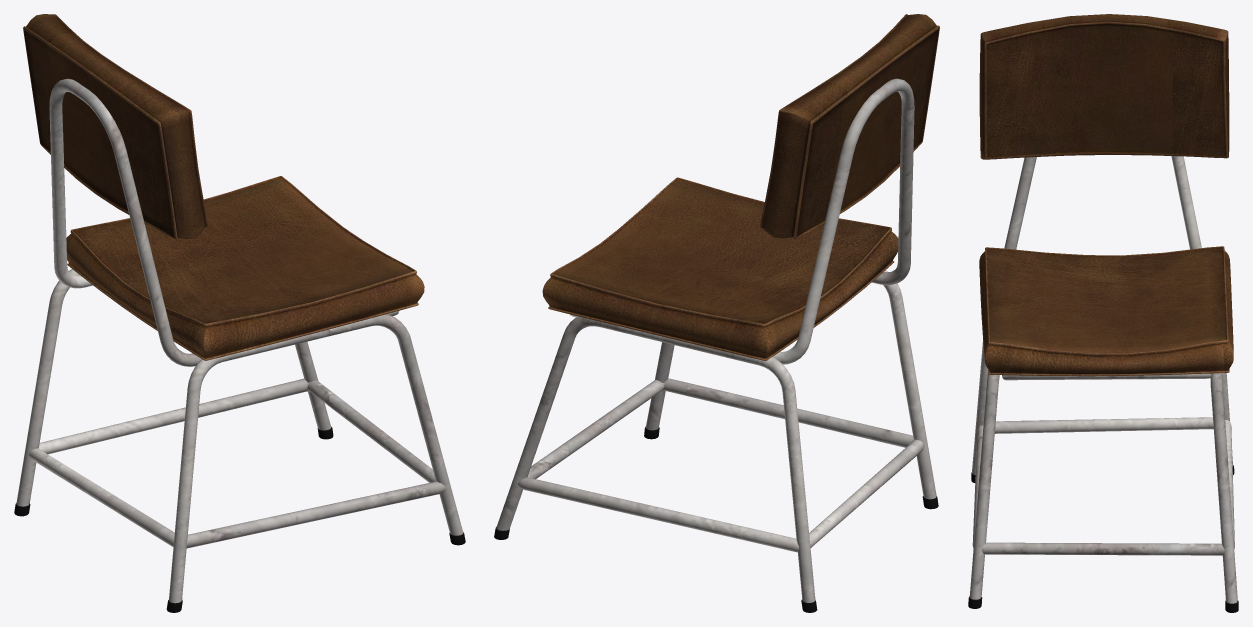
The model's file is cr_leather_chair.glb.
The picture shows the model from 3 angles, left to right: view 1: azimuth 30°, elevation 25°; view 2: azimuth 150°, elevation 25°; view 3: azimuth 270°, elevation 25°; orthographic projection. The views are drawn at different scales.
Visible parts, largest first — view 1: leatherChair__Plane.018, leatherChair__Plane.016, leatherChair__Rectangl16.002, leatherChair__Line263.002, leatherChair__Line265.002, leatherChair__Line264.002; view 2: leatherChair__Plane.018, leatherChair__Plane.016, leatherChair__Rectangl16.002, leatherChair__Line264.002, leatherChair__Line265.002, leatherChair__Line263.002; view 3: leatherChair__Plane.016, leatherChair__Plane.018, leatherChair__Rectangl16.002, leatherChair__Line263.002, leatherChair__Line265.002, leatherChair__Line264.002.
Boxes of the visible parts, <box> form: leatherChair__Plane.018: <box>66,176,424,360</box>; leatherChair__Plane.016: <box>23,14,208,239</box>; leatherChair__Rectangl16.002: <box>29,378,445,548</box>; leatherChair__Line263.002: <box>169,314,463,603</box>; leatherChair__Line265.002: <box>49,78,399,366</box>; leatherChair__Line264.002: <box>16,269,331,506</box>; leatherChair__Plane.018: <box>542,177,898,360</box>; leatherChair__Plane.016: <box>760,14,939,239</box>; leatherChair__Rectangl16.002: <box>518,378,924,552</box>; leatherChair__Line264.002: <box>496,316,815,602</box>; leatherChair__Line265.002: <box>570,78,914,364</box>; leatherChair__Line263.002: <box>645,270,936,499</box>; leatherChair__Plane.016: <box>979,14,1229,159</box>; leatherChair__Plane.018: <box>979,246,1233,376</box>; leatherChair__Rectangl16.002: <box>972,417,1234,555</box>; leatherChair__Line263.002: <box>969,340,999,599</box>; leatherChair__Line265.002: <box>1002,156,1211,380</box>; leatherChair__Line264.002: <box>1210,373,1237,603</box>.
Bounding box in the file's own units: 0.6285 × 0.9354 × 0.4981.
Materials: 3 (2 with a texture image).
